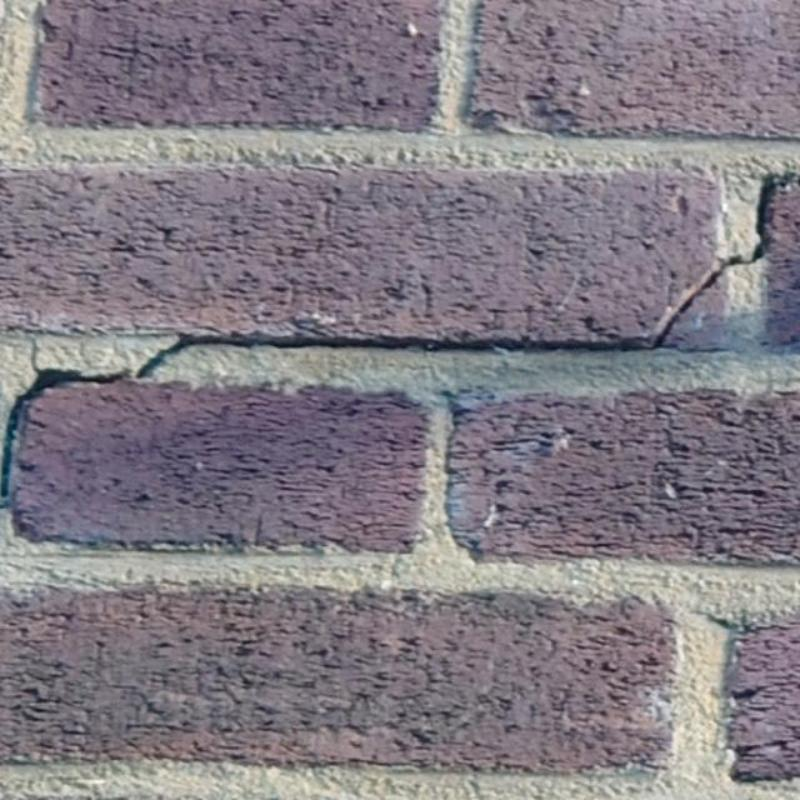crack: (0, 177, 773, 489)
